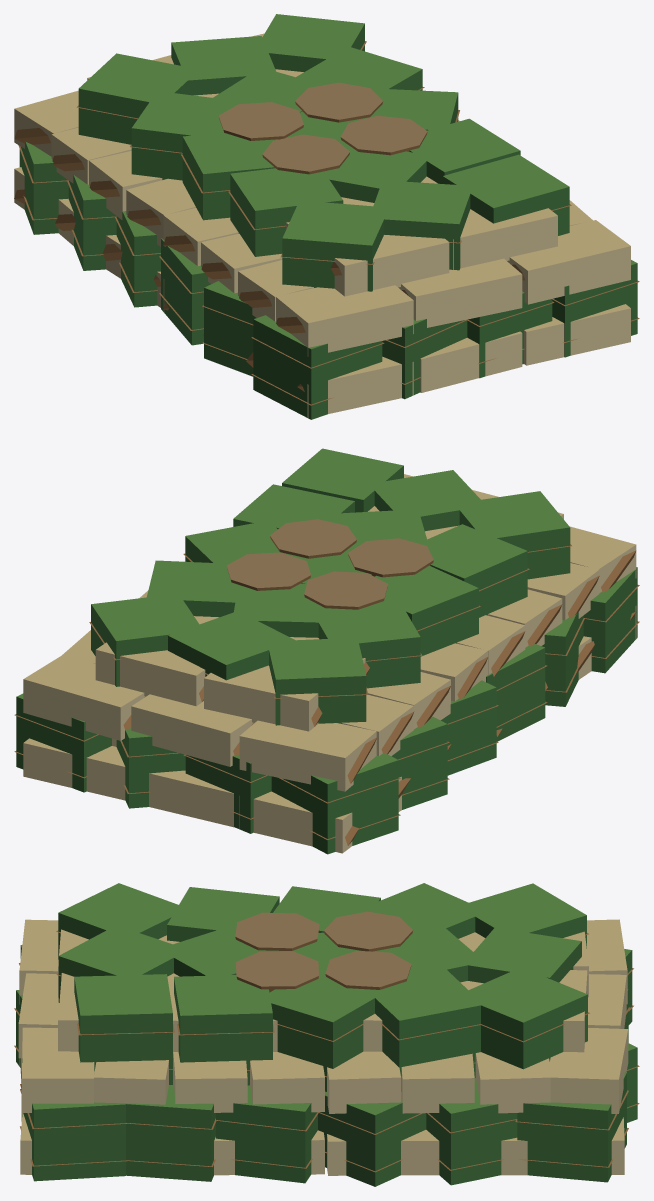
The model's file is riverside-road-cargo-low.glb.
The picture shows the model from 3 angles, top to bottom: view 1: azimuth 30°, elevation 25°; view 2: azimuth 150°, elevation 25°; view 3: azimuth 270°, elevation 25°; orthographic projection.
Visible parts, largest first — view 1: CARGO-cargo-basket-flatbed, CARGO-cargo-sacks-flatbed, CARGO-cargo-basket; view 2: CARGO-cargo-basket-flatbed, CARGO-cargo-sacks-flatbed, CARGO-cargo-basket; view 3: CARGO-cargo-basket-flatbed, CARGO-cargo-sacks-flatbed, CARGO-cargo-basket.
Boxes of the visible parts, box(x1,y1,x2,y2) form: CARGO-cargo-basket-flatbed: box(18, 14, 639, 419); CARGO-cargo-sacks-flatbed: box(14, 33, 630, 418); CARGO-cargo-basket: box(218, 82, 427, 174); CARGO-cargo-basket-flatbed: box(14, 448, 639, 854); CARGO-cargo-sacks-flatbed: box(23, 474, 636, 853); CARGO-cargo-basket: box(226, 519, 433, 609); CARGO-cargo-basket-flatbed: box(14, 883, 639, 1186); CARGO-cargo-sacks-flatbed: box(18, 919, 628, 1175); CARGO-cargo-basket: box(235, 911, 412, 992).
Size of the model in its own units: 2.5 by 0.94 by 3.64.
